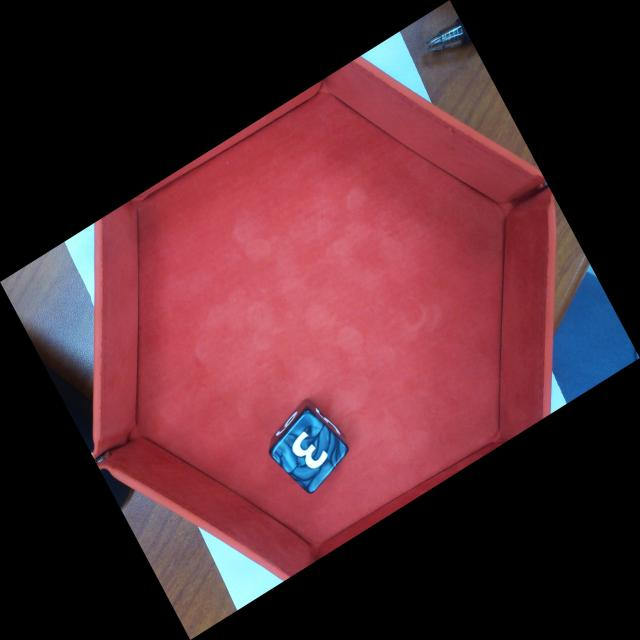dice: (271, 406, 352, 497)
